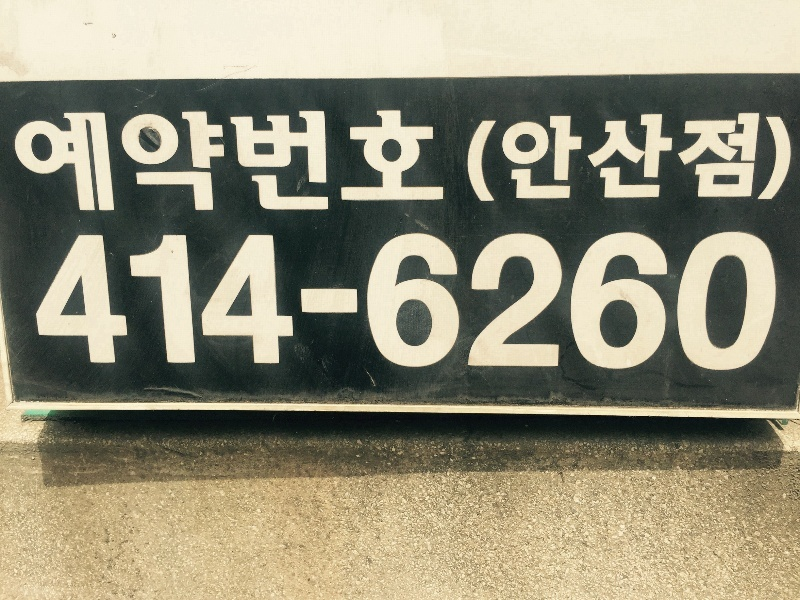text: (17, 221, 32, 386), (33, 221, 48, 386), (49, 221, 64, 386), (65, 221, 80, 386), (81, 221, 96, 386), (97, 221, 112, 386), (113, 221, 128, 386), (129, 221, 144, 386), (145, 221, 160, 386), (161, 221, 176, 386), (177, 221, 192, 386), (193, 221, 208, 386), (209, 221, 224, 386), (225, 221, 240, 386), (241, 221, 256, 386), (257, 221, 272, 386), (273, 221, 288, 386), (369, 227, 384, 382), (385, 227, 400, 382), (401, 227, 416, 382), (417, 227, 432, 382), (433, 227, 448, 382), (449, 227, 464, 382), (465, 227, 480, 382), (481, 227, 496, 382), (497, 227, 512, 382), (513, 227, 528, 382), (529, 227, 544, 382), (545, 227, 560, 382), (561, 227, 576, 382), (577, 227, 592, 382), (593, 227, 608, 382), (609, 227, 624, 382), (625, 227, 640, 382), (641, 227, 656, 382), (657, 227, 672, 382), (673, 227, 688, 382), (689, 227, 704, 382), (705, 227, 720, 382), (721, 227, 736, 382), (737, 227, 752, 382), (753, 227, 768, 382), (769, 227, 784, 382), (289, 221, 303, 386), (17, 102, 32, 230), (33, 102, 48, 230), (49, 102, 64, 230), (65, 102, 80, 230), (81, 102, 96, 230), (97, 102, 112, 230), (113, 102, 128, 230), (129, 102, 144, 230), (145, 102, 160, 230), (161, 102, 176, 230), (177, 102, 192, 230), (193, 102, 208, 230), (209, 102, 224, 230), (225, 102, 240, 230), (241, 102, 256, 230), (257, 102, 272, 230), (273, 102, 288, 230), (289, 102, 304, 230), (305, 102, 320, 230), (321, 102, 336, 230), (337, 102, 352, 230), (353, 102, 368, 230), (369, 102, 384, 230), (385, 102, 400, 230), (401, 102, 416, 230), (417, 102, 432, 230), (433, 102, 448, 230), (465, 108, 480, 216), (481, 108, 496, 216), (497, 108, 512, 216), (513, 108, 528, 216), (529, 108, 544, 216), (545, 108, 560, 216), (561, 108, 576, 216), (577, 108, 592, 216), (593, 108, 608, 216), (609, 108, 624, 216), (625, 108, 640, 216), (641, 108, 656, 216), (657, 108, 672, 216), (673, 108, 688, 216), (689, 108, 704, 216), (705, 108, 720, 216), (721, 108, 736, 216), (737, 108, 752, 216), (753, 108, 768, 216), (769, 108, 784, 216), (785, 108, 800, 216), (6, 102, 16, 230), (449, 102, 457, 230), (305, 273, 320, 336), (321, 273, 336, 336), (337, 273, 352, 336), (353, 273, 366, 336), (363, 227, 368, 382), (785, 227, 790, 382), (459, 108, 464, 216), (298, 273, 304, 336), (14, 221, 16, 386)
